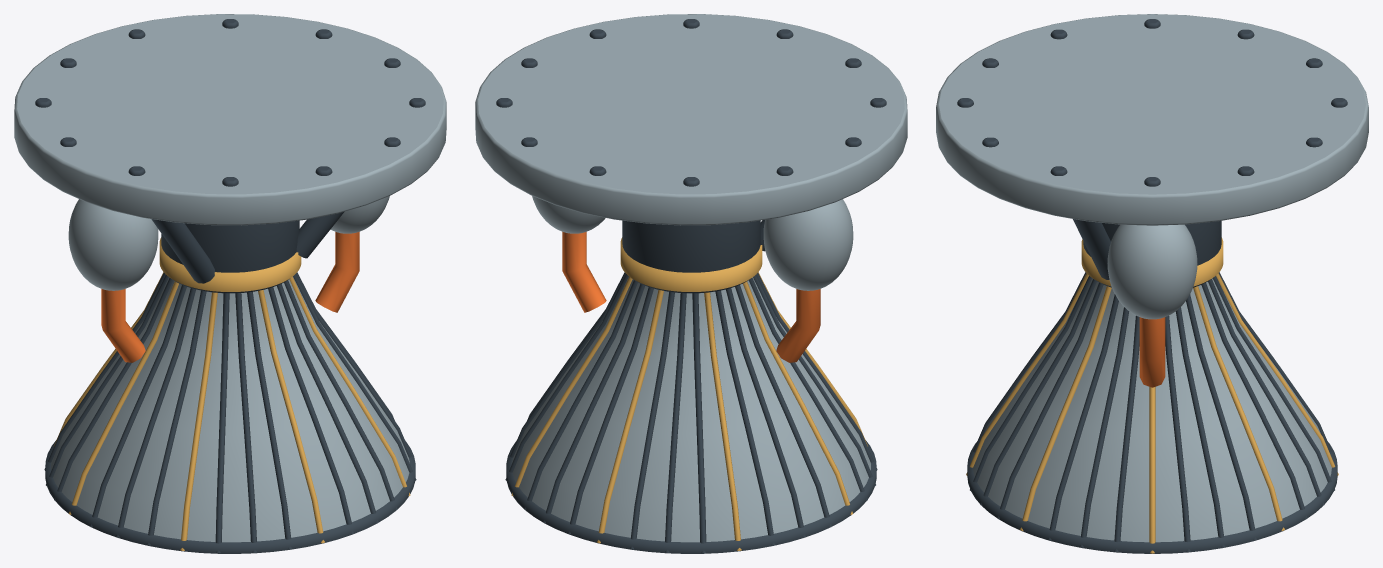
The model's file is engine.glb.
3 renders of one model, left to right at view 1: azimuth 30°, elevation 25°; view 2: azimuth 150°, elevation 25°; view 3: azimuth 270°, elevation 25°, orthographic.
Visible parts, largest first — view 1: EngineMount, GimbalNozzle; view 2: EngineMount, GimbalNozzle; view 3: EngineMount, GimbalNozzle.
Boxes of the visible parts, left/top/right/bottom form: EngineMount: left=14, top=14, right=446, bottom=362; GimbalNozzle: left=44, top=237, right=416, bottom=553; EngineMount: left=475, top=14, right=907, bottom=362; GimbalNozzle: left=505, top=237, right=877, bottom=553; EngineMount: left=936, top=14, right=1368, bottom=387; GimbalNozzle: left=966, top=237, right=1338, bottom=553.
Size of the model in its own units: 1.25 by 1.2 by 1.25.
